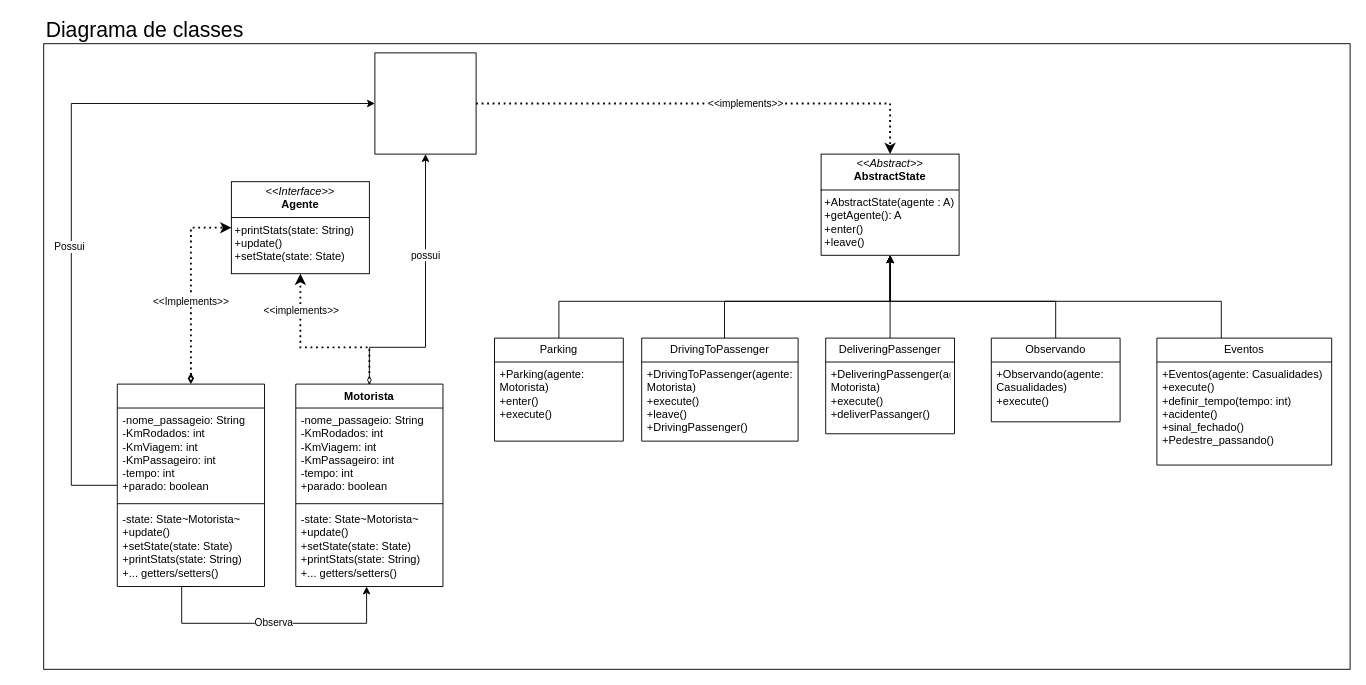
Some shapes in this 1366 by 685 pixel diagram are drawn without their labels. Each missing label, with the box of its shape:
<<Interface>> State +getAgente() +enter() +execute() +leave(): (374, 52, 476, 154)
Casualidades: (116, 383, 264, 586)
